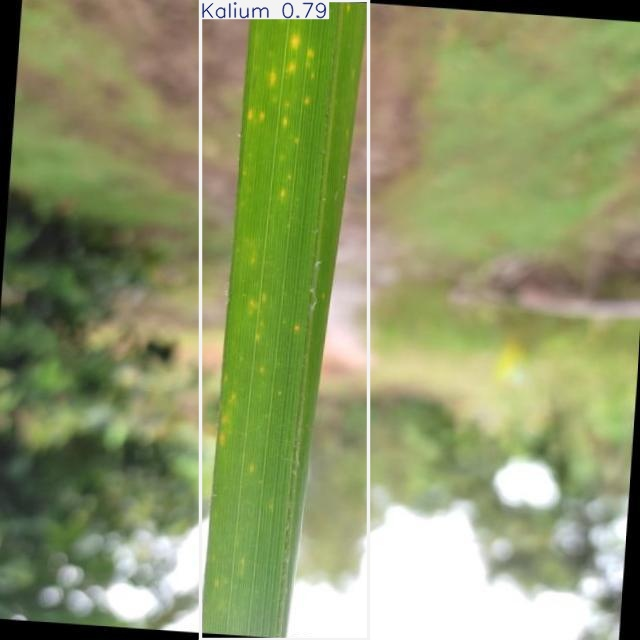Kalium: (200, 0, 369, 639)
